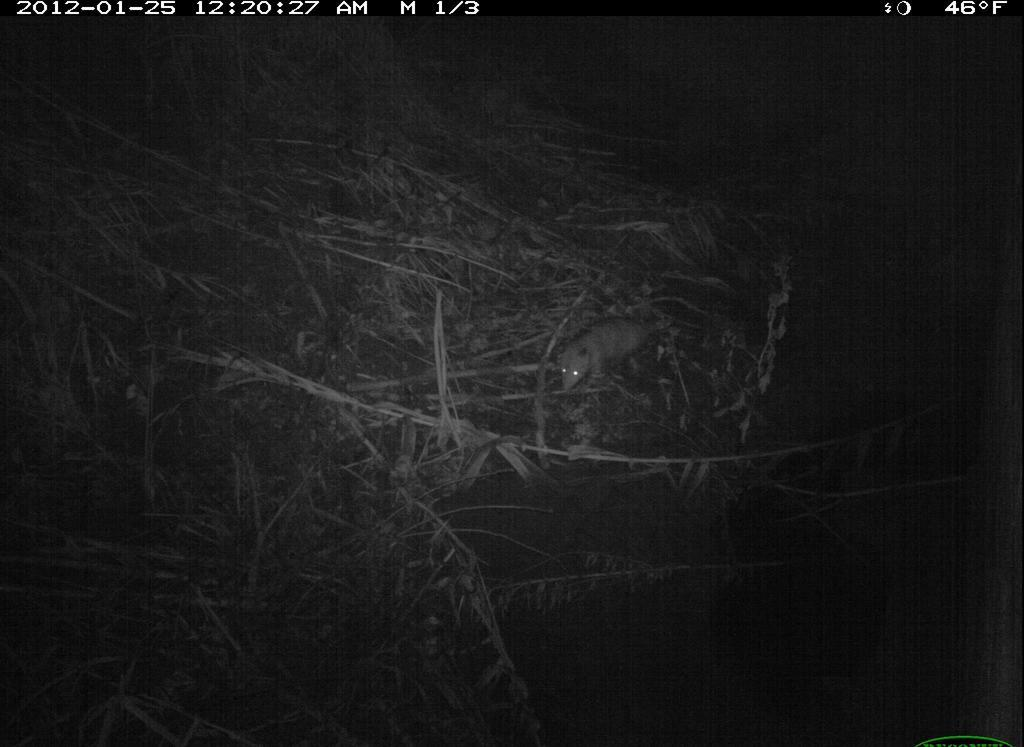opossum: (547, 294, 701, 402)
